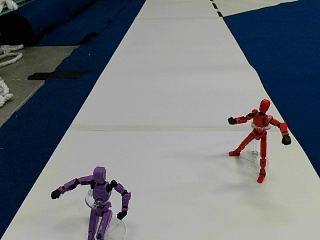pedestrian: (51, 166, 130, 235), (227, 97, 289, 181)
